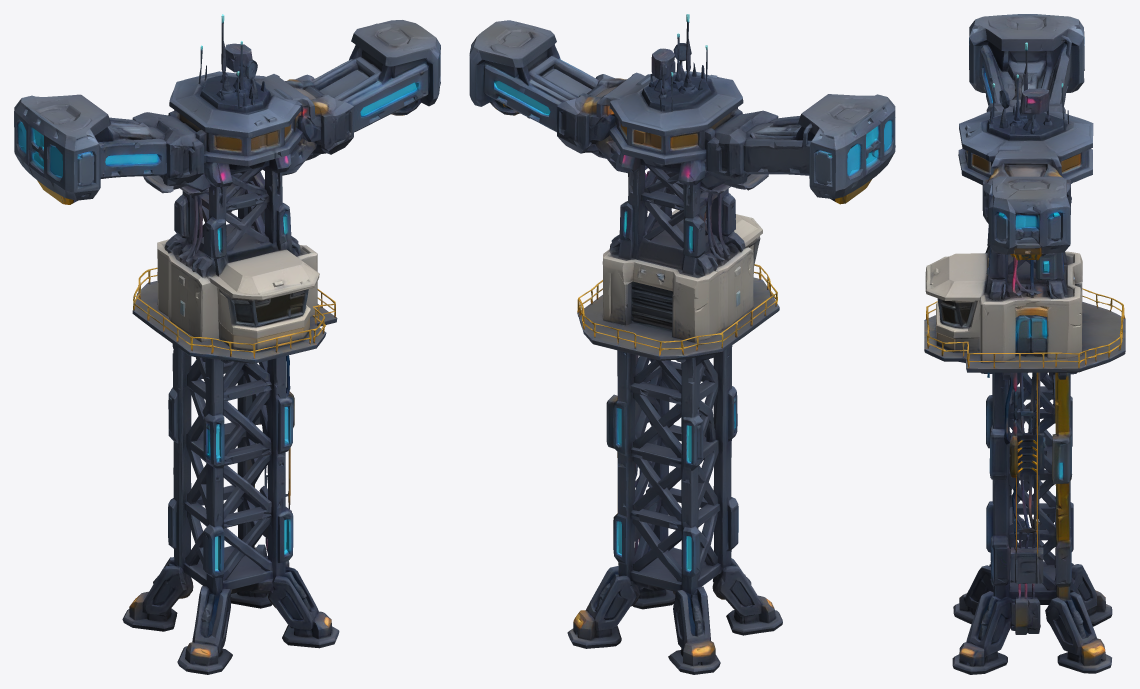
3 views of the same model, side by side, from view 1: azimuth 30°, elevation 25°; view 2: azimuth 150°, elevation 25°; view 3: azimuth 270°, elevation 25° (orthographic). The views are drawn at different scales.
Visible parts, largest first — view 1: model; view 2: model; view 3: model.
Part boxes in pixels (x1,y1,x2,y2): model: (14,14,440,674); model: (469,14,895,674); model: (924,14,1125,674).
Size of the model in its own units: 1.27 by 1.9 by 0.5854.
Materials: 1 (1 with a texture image).
